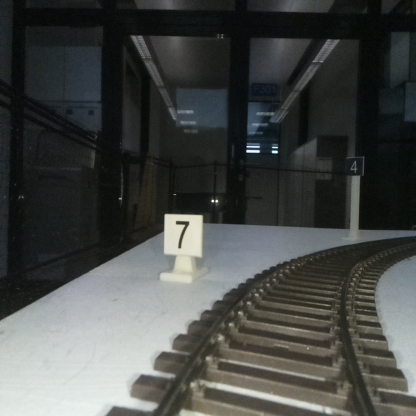black-info-4: (346, 157, 362, 238)
white-stop-7: (164, 214, 202, 279)
